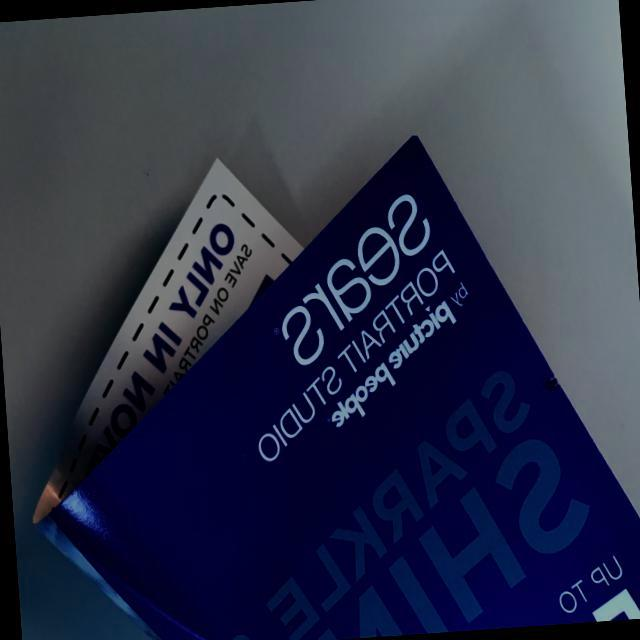paper: (6, 98, 640, 640)
